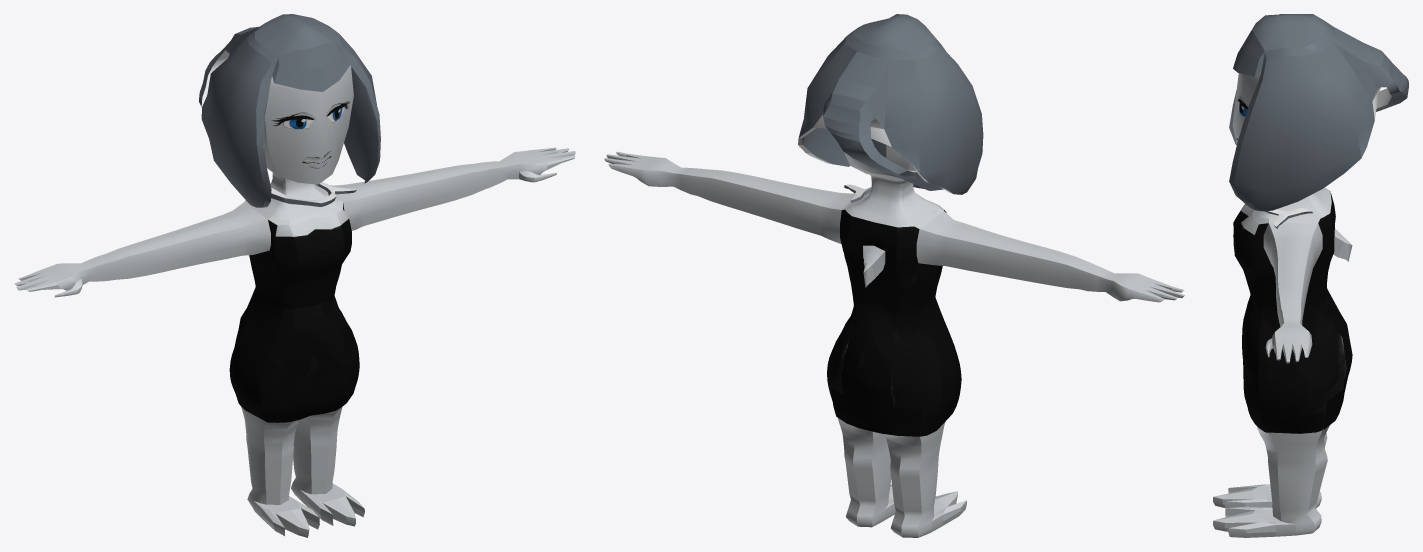
File: Coral.fbx
The picture shows the model from 3 angles, left to right: view 1: azimuth 30°, elevation 25°; view 2: azimuth 150°, elevation 25°; view 3: azimuth 270°, elevation 25°; orthographic projection. The views are drawn at different scales.
Parts seen in each view (by area): view 1: Coral; view 2: Coral; view 3: Coral.
Part boxes in pixels (x1,y1,x2,y2): Coral: (14,14,575,537); Coral: (604,14,1184,537); Coral: (1213,14,1408,537).
Size of the model in its own units: 6.27 by 5.21 by 1.84.
